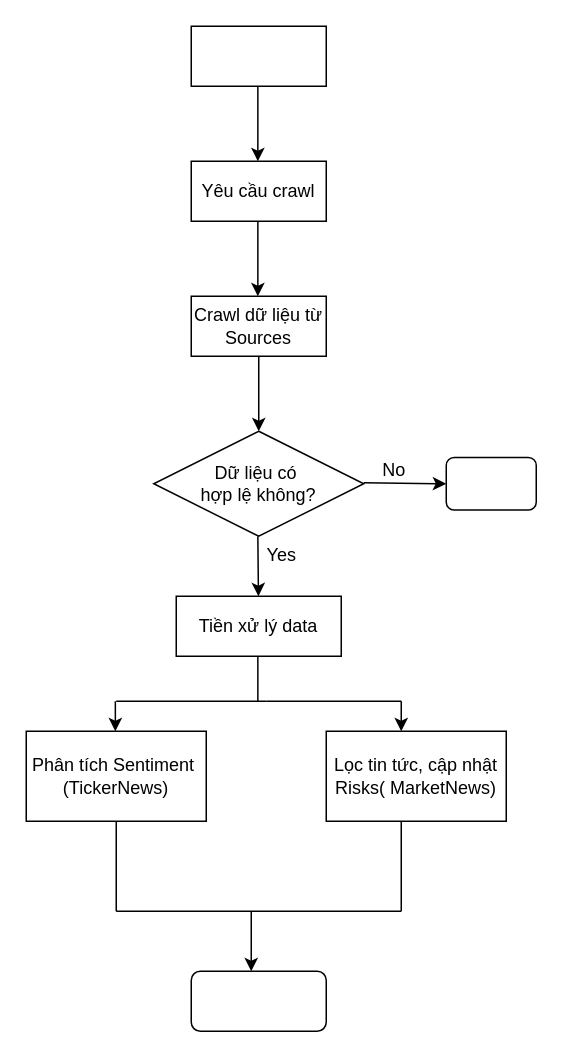
This 563x1058 diagram has some shape labels left out. Here are the shapes that lost their labels. From the top down, the box of each, then its label:
(190, 25, 326, 86): Start
(445, 456, 536, 510): End
(190, 970, 326, 1031): Response cho users
